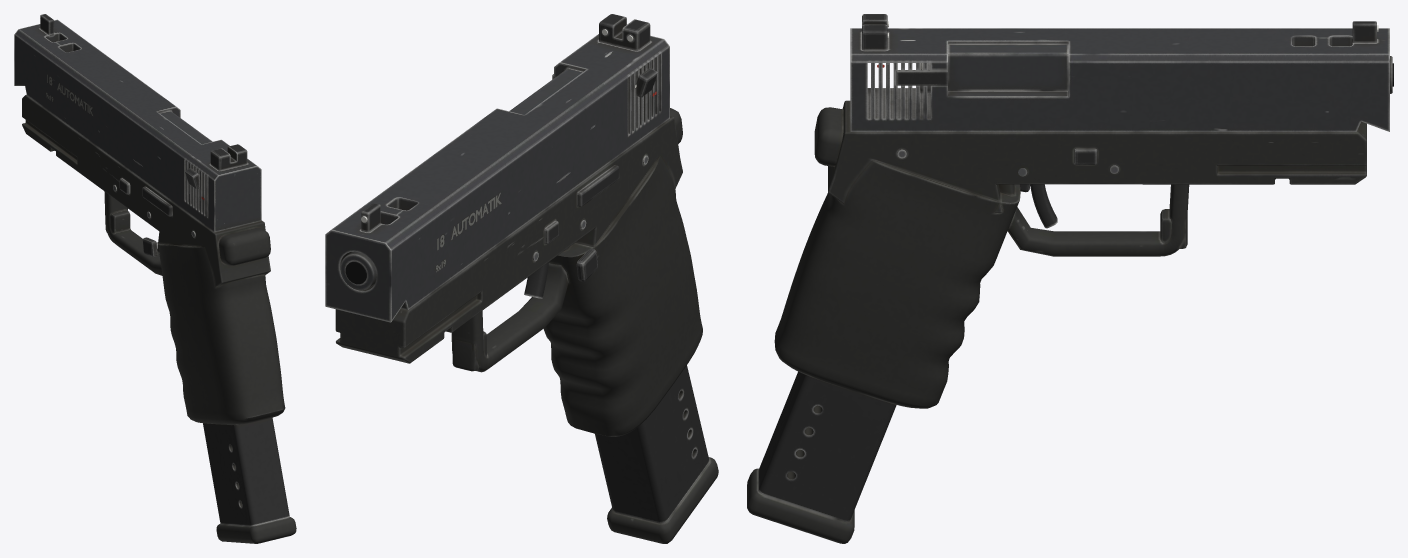
File: g18_built.glb
3 views of the same model, side by side, from view 1: azimuth 30°, elevation 25°; view 2: azimuth 150°, elevation 25°; view 3: azimuth 270°, elevation 25° (orthographic). The views are drawn at different scales.
Visible parts, largest first — view 1: Body; view 2: Body; view 3: Body.
Boxes of the visible parts, <box> form: Body: <box>14,14,296,543</box>; Body: <box>325,14,718,543</box>; Body: <box>747,14,1393,543</box>.
Bounding box in the file's own units: 0.0328 × 0.196 × 0.2254.
Materials: 1 (1 with a texture image).
